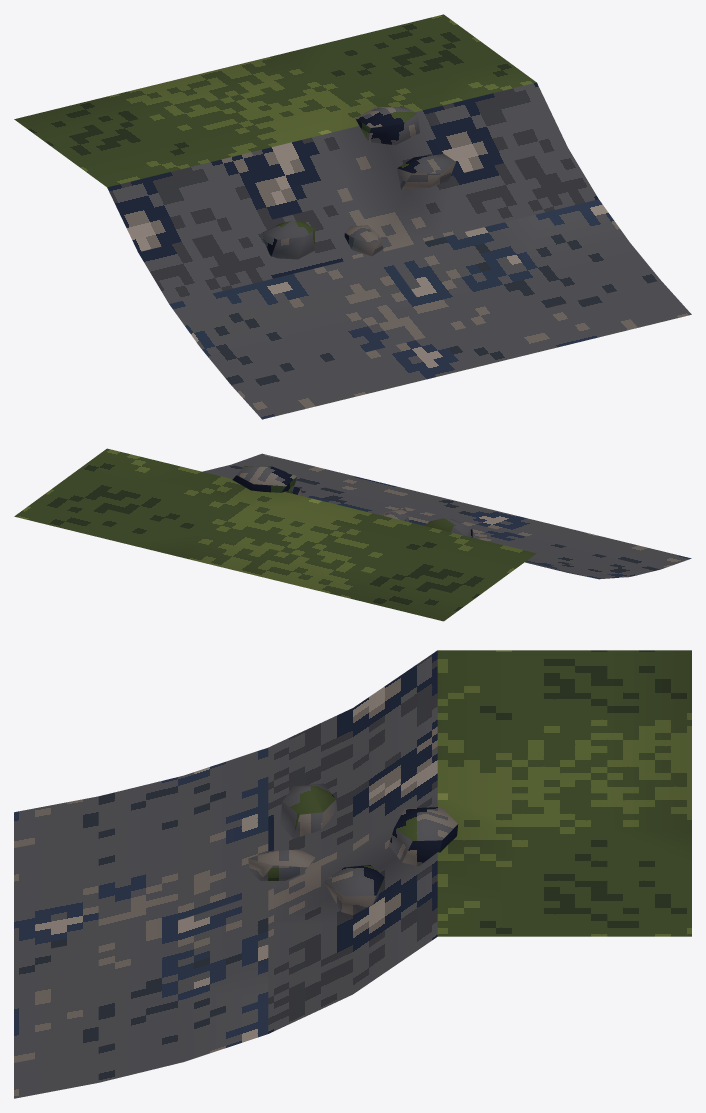
Rendered from lake.shore.glb.
The picture shows the model from 3 angles, top to bottom: view 1: azimuth 30°, elevation 25°; view 2: azimuth 150°, elevation 25°; view 3: azimuth 270°, elevation 25°; orthographic projection. The views are drawn at different scales.
Parts seen in each view (by area): view 1: kit_shell_bank, kit_stones; view 2: kit_shell_bank, kit_stones; view 3: kit_shell_bank, kit_stones.
Boxes of the visible parts, left/top/right/bottom form: kit_shell_bank: left=14, top=14, right=691, bottom=419; kit_stones: left=262, top=107, right=455, bottom=259; kit_shell_bank: left=14, top=448, right=691, bottom=621; kit_stones: left=232, top=466, right=472, bottom=537; kit_shell_bank: left=14, top=650, right=691, bottom=1098; kit_stones: left=248, top=783, right=458, bottom=915.
Size of the model in its own units: 4 by 1.19 by 4.
4 materials, 4 textured.
